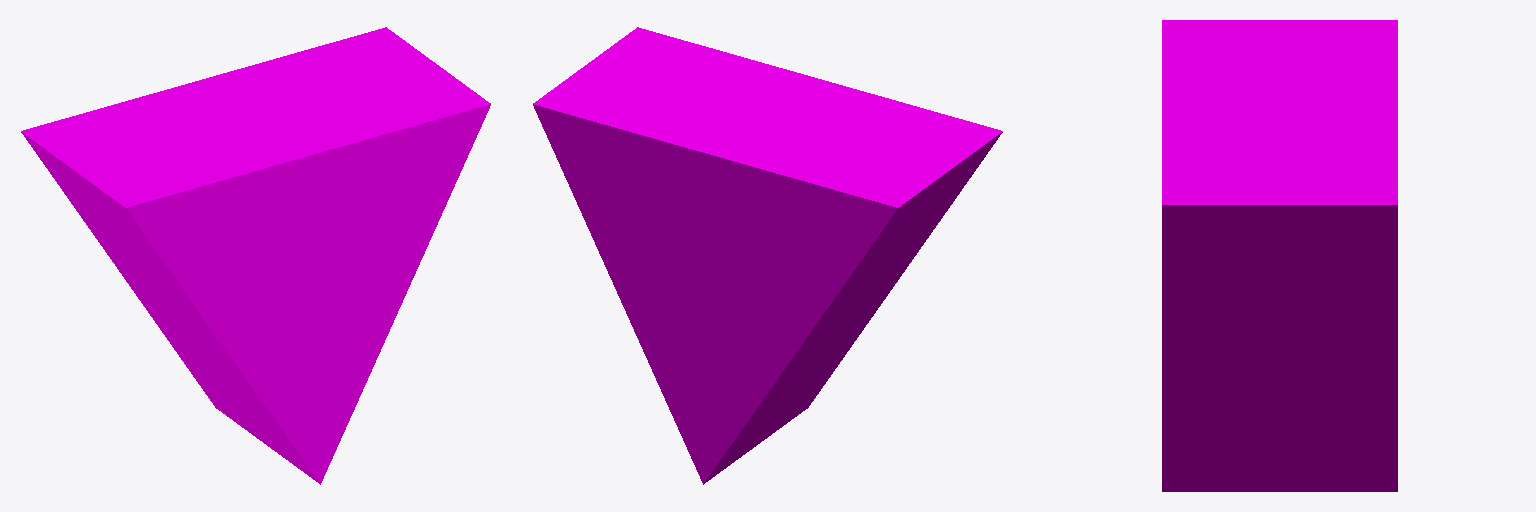
The robot description file, URDF, robot "globe":
<?xml version="1.0"?>
<robot name="globe">
  <link name ="rb1_marker">
    <visual>
      <origin xyz='0 0 0'/>
      <geometry>
        <mesh filename="purple_triangle.obj"  scale="1 1 1" />
      </geometry>
			<material name="red">
        <color rgba="1 0 1 1"/>
  		</material>
    </visual>
    <collision>
      <origin xyz='0 0 0'/>
      <geometry>
        <mesh filename="purple_triangle.obj"  scale="1 1 1" />
      </geometry>
    </collision>
  </link>
</robot>

--- Facts derived from the render (not from the file) ---
The picture shows the robot from 3 angles, left to right: view 1: azimuth 30°, elevation 25°; view 2: azimuth 150°, elevation 25°; view 3: azimuth 270°, elevation 25°; orthographic projection.
Robot: globe — 1 links, 0 joints (none); root link rb1_marker; default pose: every joint at zero.
Links seen in each view (by area): view 1: rb1_marker; view 2: rb1_marker; view 3: rb1_marker.
Link boxes in pixels (x1,y1,x2,y2): rb1_marker: (21, 27, 490, 484); rb1_marker: (533, 27, 1002, 484); rb1_marker: (1162, 20, 1397, 491).
Bounding box of the posed robot: 0.2032 × 0.1011 × 0.1798 m (x, y, z).
1 mesh visuals loaded from 1 distinct referenced files (1 OBJ).